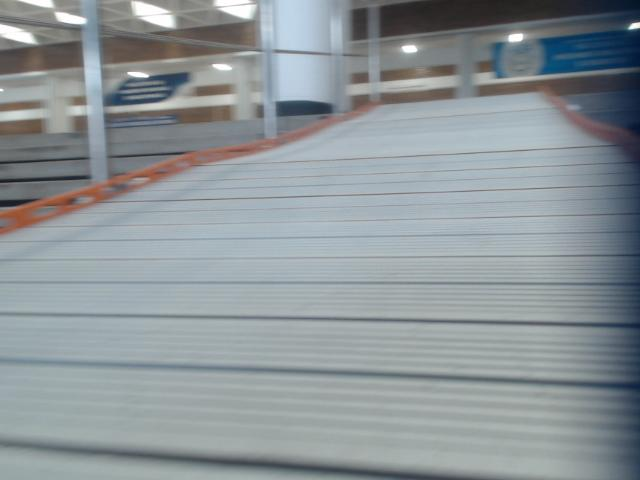rampUp: (0, 94, 639, 479)
ramps-railing: (0, 0, 332, 180), (331, 0, 350, 112), (368, 4, 381, 101), (185, 40, 263, 51), (276, 48, 333, 55), (143, 34, 160, 40), (335, 53, 366, 55), (0, 15, 18, 18), (116, 31, 126, 36), (169, 39, 179, 42)
